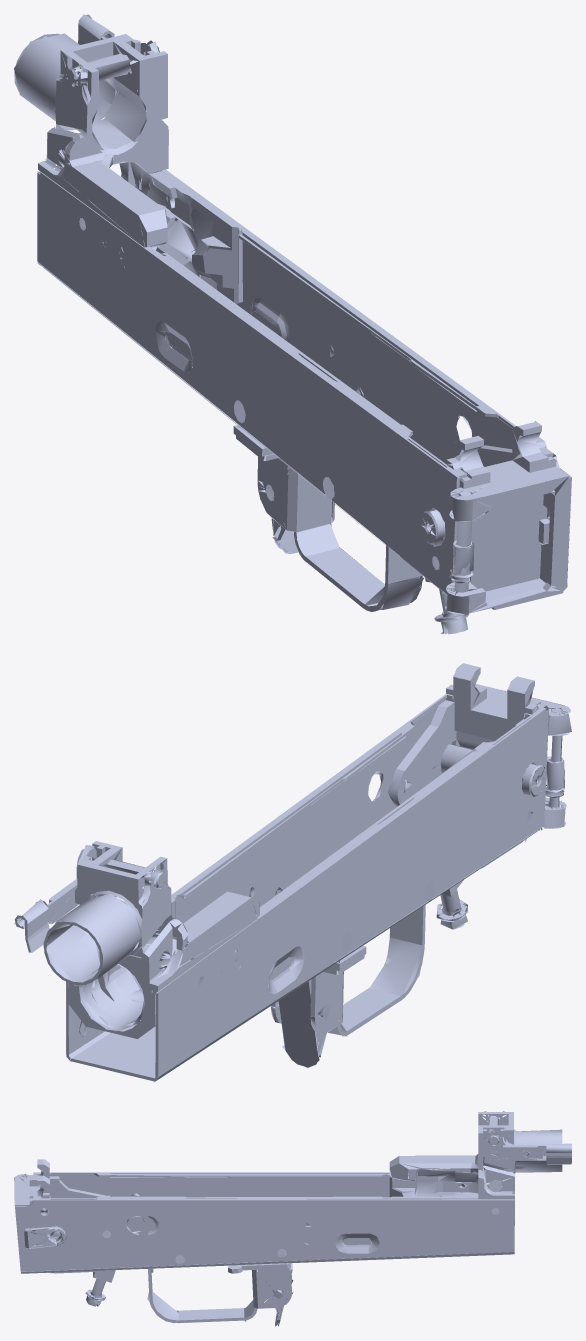
Rendered from ak12_receiver.glb.
The picture shows the model from 3 angles, top to bottom: view 1: azimuth 30°, elevation 25°; view 2: azimuth 150°, elevation 25°; view 3: azimuth 270°, elevation 25°; orthographic projection. The views are drawn at different scales.
Parts seen in each view (by area): view 1: 11_1_1_1_1-1.STEP; view 2: 11_1_1_1_1-1.STEP; view 3: 11_1_1_1_1-1.STEP.
Part boxes in pixels (x1,y1,x2,y2): 11_1_1_1_1-1.STEP: [14, 14, 571, 634]; 11_1_1_1_1-1.STEP: [14, 663, 571, 1082]; 11_1_1_1_1-1.STEP: [14, 1111, 571, 1326].
Size of the model in its own units: 0.0425 by 0.1195 by 0.2893.
